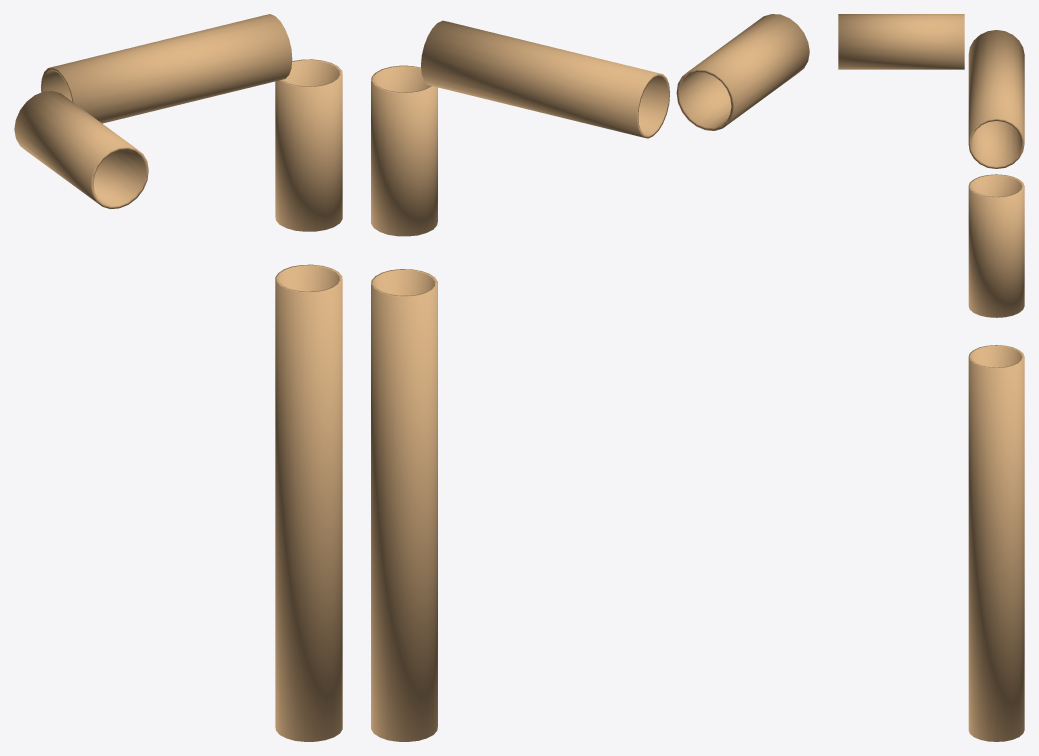
Rendered from slab_pipes_supply__plumbing__1d6b6cc1.glb.
3 views of the same model, side by side, from view 1: azimuth 30°, elevation 25°; view 2: azimuth 150°, elevation 25°; view 3: azimuth 270°, elevation 25° (orthographic). The views are drawn at different scales.
Parts seen in each view (by area): view 1: pipe_supply_manifold_feed__copper.902; view 2: pipe_supply_manifold_feed__copper.902; view 3: pipe_supply_manifold_feed__copper.902.
Boxes of the visible parts, <box> form: pipe_supply_manifold_feed__copper.902: <box>14,14,342,741</box>; pipe_supply_manifold_feed__copper.902: <box>371,14,809,741</box>; pipe_supply_manifold_feed__copper.902: <box>838,14,1024,741</box>.
Size of the model in its own units: 0.1302 by 0.2611 by 0.0737.
